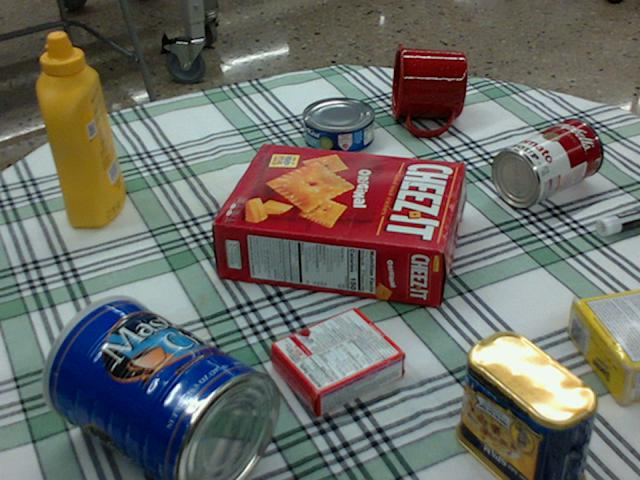cracker_box: (211, 141, 464, 308)
gelatin_box: (269, 307, 406, 413)
large_marker: (595, 208, 639, 234)
master_chef_can: (39, 297, 278, 479)
mug: (389, 43, 467, 135)
mustard_bottle: (37, 32, 124, 226)
potted_meat_can: (455, 328, 596, 479)
sugar_box: (569, 290, 639, 407)
tomato_soup_can: (491, 118, 602, 206)
tuna_fish_can: (302, 97, 374, 153)
